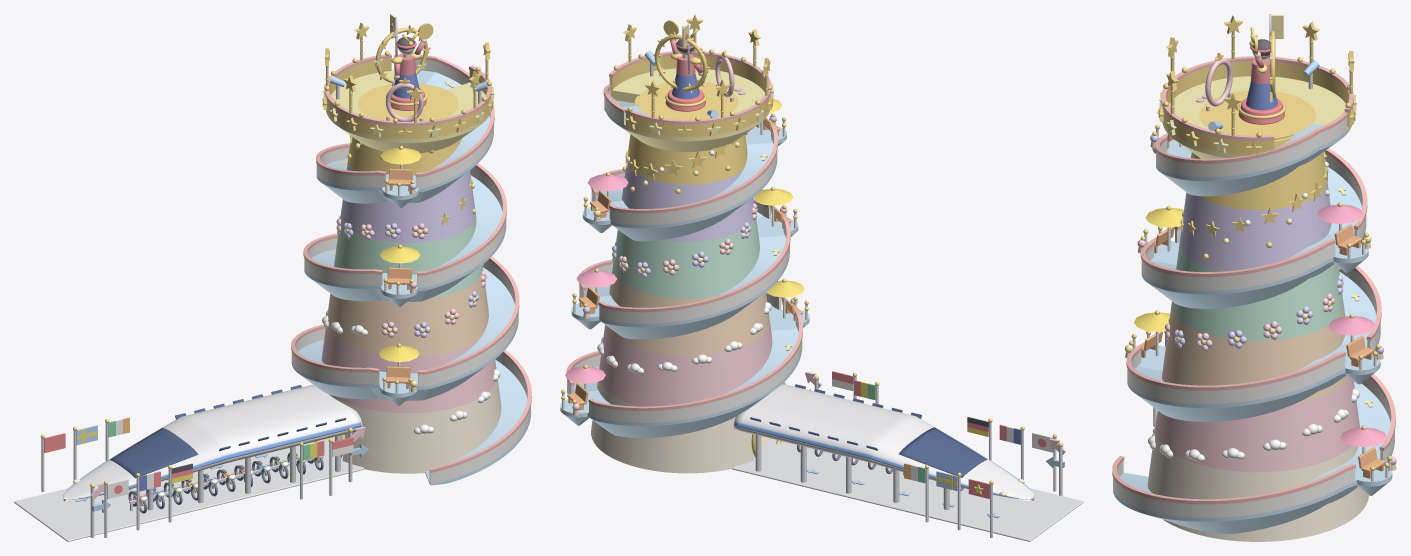
3 views of the same model, side by side, from view 1: azimuth 30°, elevation 25°; view 2: azimuth 150°, elevation 25°; view 3: azimuth 270°, elevation 25° (orthographic). The views are drawn at different scales.
Parts seen in each view (by area): view 1: 坂_ゆか, 新幹線屋根, 屋根の下の道, 1F_駅ホール, タワー_3だん, タワー_5だん, タワー_2だん, タワー_4だん, デッキ_まわり, デッキ_かべ, 新幹線_運転席まど, デッキ_まん中 (+16 smaller); view 2: 坂_ゆか, 屋根の下の道, 新幹線屋根, タワー_2だん, タワー_4だん, 1F_駅ホール, タワー_3だん, タワー_5だん, デッキ_まわり, タワー_6だん, デッキ_かべ, 坂_外がわのかべ_2 (+10 smaller); view 3: 坂_ゆか, タワー_2だん, 1F_駅ホール, タワー_5だん, タワー_3だん, タワー_4だん, デッキ_まわり, 坂_外がわのかべ_1, デッキ_かべ, 坂_外がわのかべ_3, タワー_6だん, 坂_外がわのかべ_5 (+25 smaller).
Boxes of the visible parts, <box> form: 坂_ゆか: <box>291,70,530,485</box>; 新幹線屋根: <box>63,384,362,501</box>; 屋根の下の道: <box>14,439,364,541</box>; 1F_駅ホール: <box>329,380,501,473</box>; タワー_3だん: <box>327,269,488,356</box>; タワー_5だん: <box>341,161,475,242</box>; タワー_2だん: <box>321,328,496,413</box>; タワー_4だん: <box>334,214,482,298</box>; デッキ_まわり: <box>326,69,490,153</box>; デッキ_かべ: <box>326,58,490,139</box>; 新幹線_運転席まど: <box>110,428,198,478</box>; デッキ_まん中: <box>358,83,458,121</box>; 坂_ゆか: <box>567,98,802,437</box>; 屋根の下の道: <box>732,439,1083,541</box>; 新幹線屋根: <box>733,383,1034,501</box>; タワー_2だん: <box>599,320,772,406</box>; タワー_4だん: <box>613,219,759,298</box>; 1F_駅ホール: <box>591,381,753,473</box>; タワー_3だん: <box>606,266,769,355</box>; タワー_5だん: <box>622,163,754,241</box>; デッキ_まわり: <box>611,68,769,151</box>; タワー_6だん: <box>627,134,747,184</box>; デッキ_かべ: <box>609,55,770,137</box>; 坂_外がわのかべ_2: <box>589,315,802,422</box>; 坂_ゆか: <box>1113,123,1394,534</box>; タワー_2だん: <box>1155,367,1359,472</box>; 1F_駅ホール: <box>1147,430,1368,541</box>; タワー_5だん: <box>1179,182,1331,271</box>; タワー_3だん: <box>1163,304,1348,402</box>; タワー_4だん: <box>1171,244,1343,341</box>; デッキ_まわり: <box>1162,76,1351,158</box>; 坂_外がわのかべ_1: <box>1113,461,1355,517</box>; デッキ_かべ: <box>1163,61,1352,155</box>; 坂_外がわのかべ_3: <box>1127,351,1345,404</box>; タワー_6だん: <box>1191,152,1327,209</box>; 坂_外がわのかべ_5: <box>1141,244,1335,290</box>.
Bounding box in the file's own units: 295 × 251 × 133.
